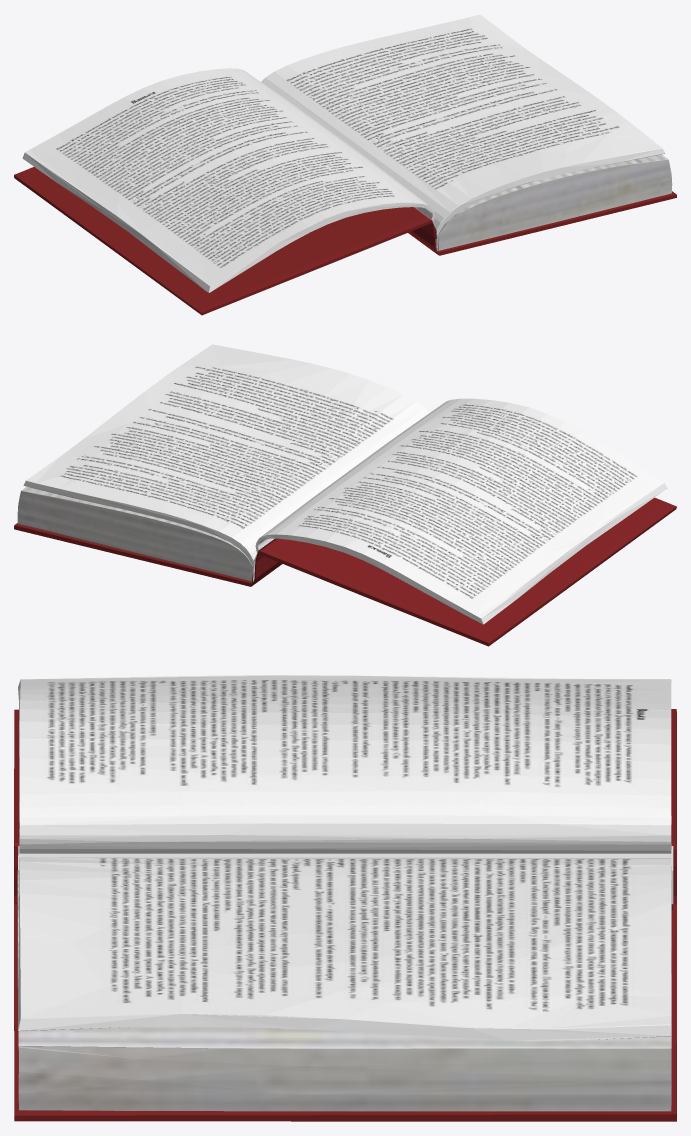
The model's file is book.FBX.
3 views of the same model, one above another, from view 1: azimuth 30°, elevation 25°; view 2: azimuth 150°, elevation 25°; view 3: azimuth 270°, elevation 25° (orthographic). The views are drawn at different scales.
Visible parts, largest first — view 1: Book; view 2: Book; view 3: Book.
Part boxes in pixels (bbox=[...]): Book: bbox=[14, 14, 676, 315]; Book: bbox=[14, 344, 676, 646]; Book: bbox=[14, 675, 676, 1121].
Size of the model in its own units: 276 by 188 by 37.32.
1 material, 1 textured.
